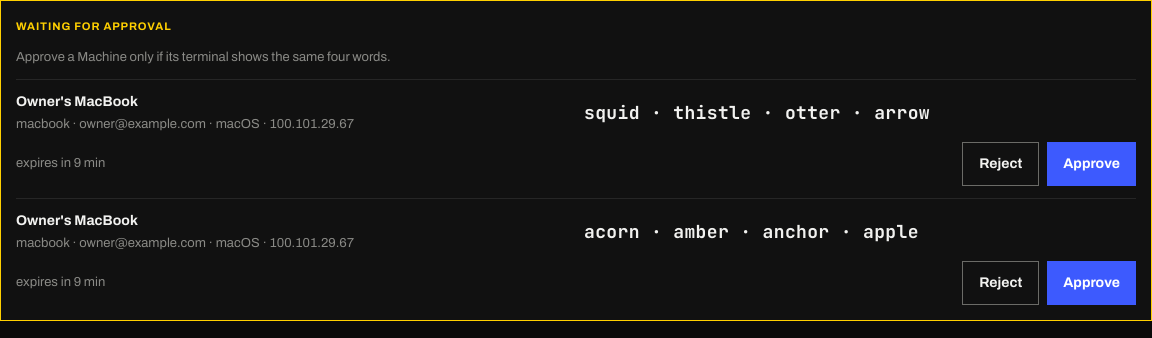
Test: PairingRequestsCard › shows each waiting Machine with its words and Tailscale identity, and approves only that one
Expected: the element named "squid thistle otter arrow" shows "Owner's MacBook", [16,94,138,109]
Expected: the element named "squid thistle otter arrow" shows "macbook · owner@example.com · macOS · 100.101.29.67", [16,79,1136,186]
Click the button "Approve" below "squid · thistle · otter · arrow" at point(1092, 164), box [1047,142,1136,186]
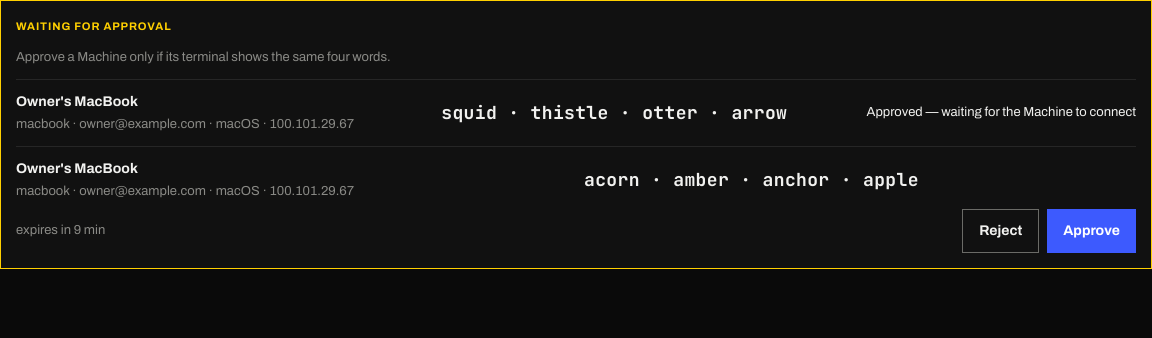
Expected: the button "Approve" is enabled, [1047,209,1136,253]
Now the element named "squid thistle otter arrow" shows "Approved — waiting for the Machine to connect", box [867,105,1136,119]
